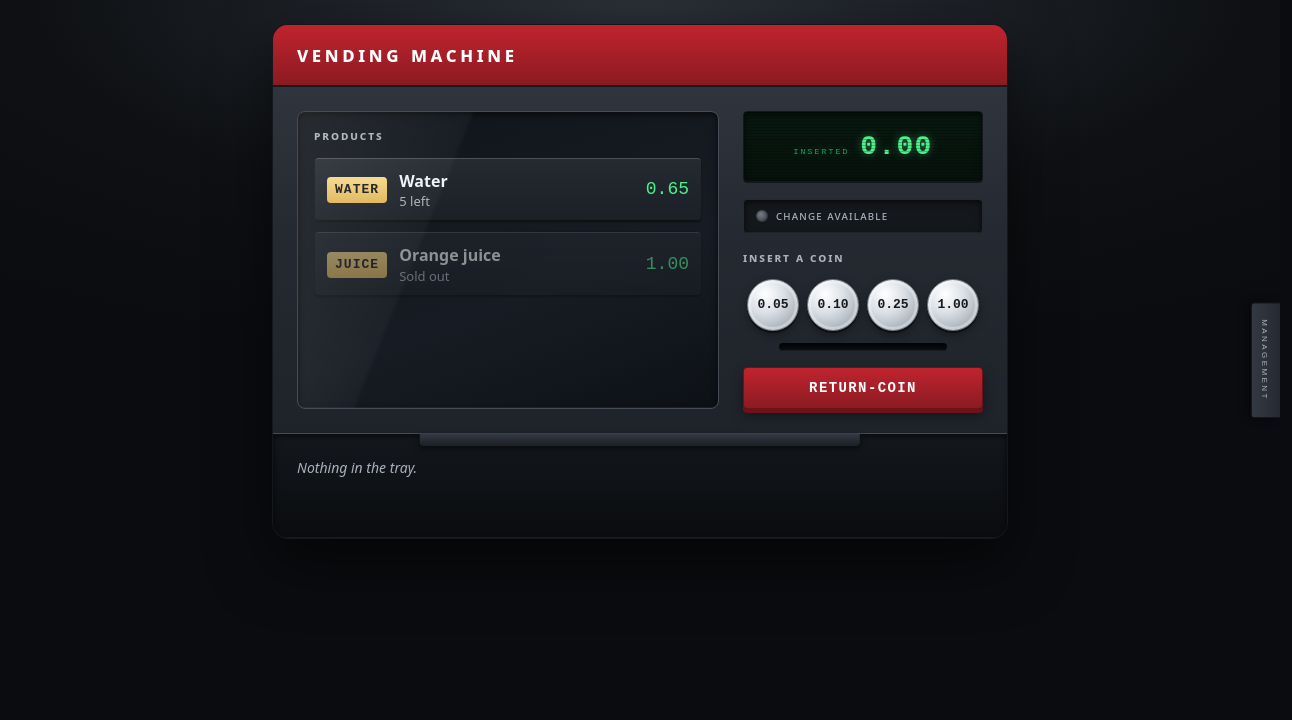
Test: MachinePage › shows the amount the machine reports after a coin goes in
Expected: the button "WATER Water 0.65 5 left" is shown, [314,157,702,223]
Click the button "0.25" at (893, 305), box [867,279,919,331]
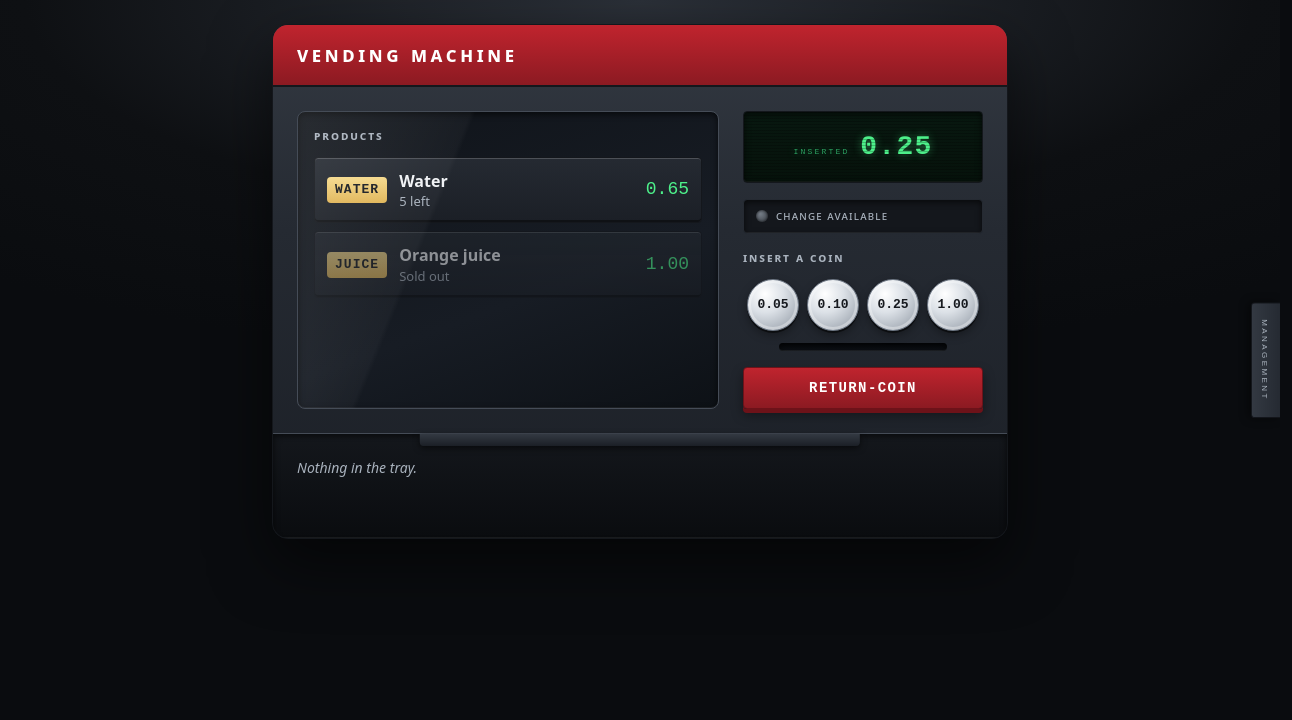
Expected: the message named "Display" shows "0.25", [860,131,933,162]
